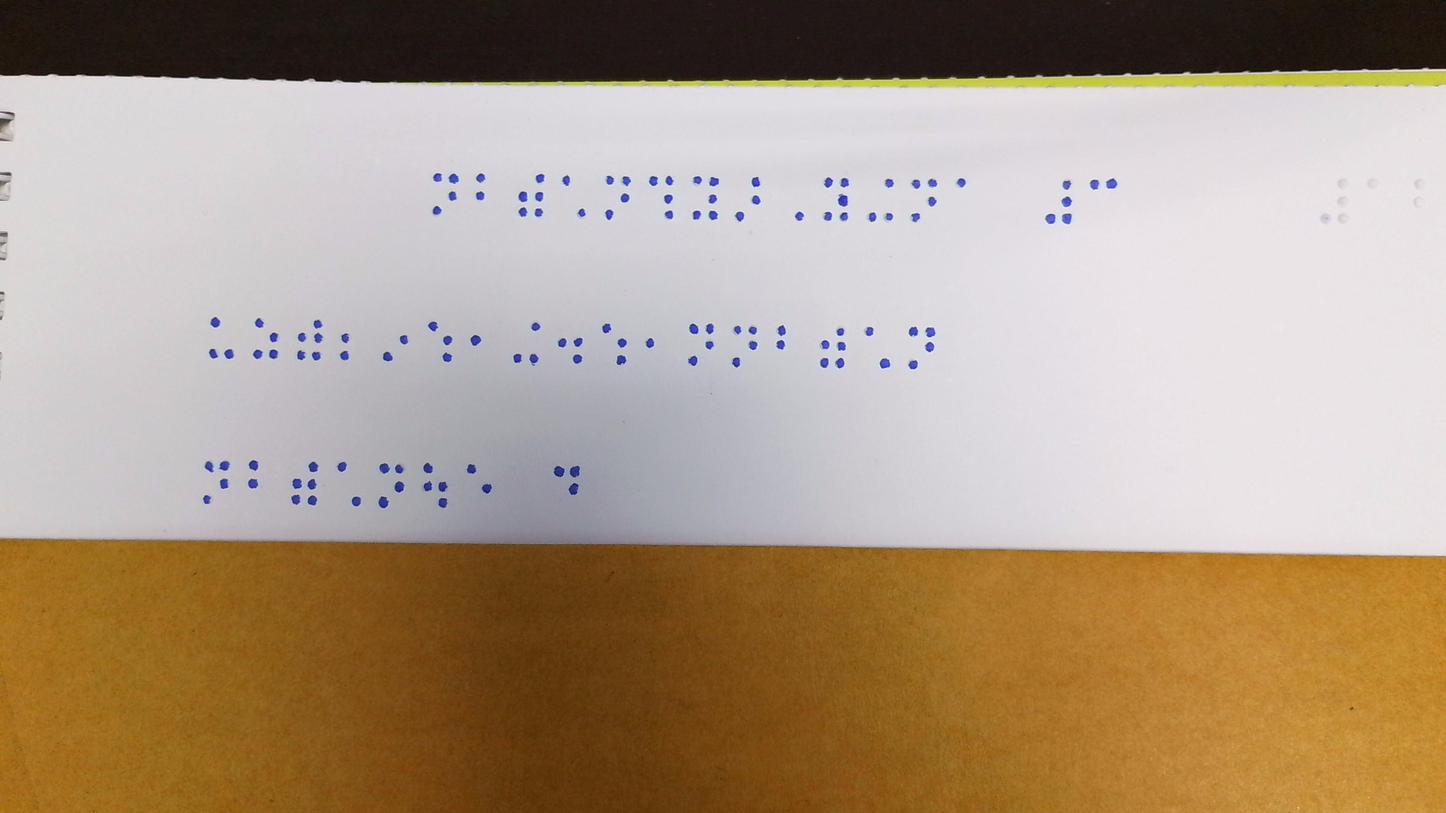braille_dot: (397, 334, 410, 346), (732, 325, 743, 337), (1106, 180, 1116, 189), (1045, 214, 1054, 224), (471, 336, 480, 346), (555, 467, 564, 477), (839, 195, 847, 206), (448, 174, 457, 183), (432, 206, 441, 215), (535, 174, 544, 183), (911, 180, 920, 189), (1090, 180, 1099, 189), (690, 324, 699, 333), (747, 341, 756, 350), (253, 350, 262, 359), (269, 350, 278, 359), (529, 355, 538, 364), (908, 360, 917, 369), (249, 461, 258, 470), (308, 463, 317, 472), (220, 480, 229, 489), (249, 479, 258, 488), (308, 480, 317, 489), (308, 496, 317, 505), (210, 317, 218, 327), (706, 324, 714, 334), (448, 191, 456, 200), (476, 191, 484, 200), (620, 177, 629, 185), (649, 177, 658, 185), (664, 177, 673, 185), (709, 177, 717, 186), (620, 194, 629, 202), (664, 196, 673, 204), (735, 212, 743, 221), (839, 212, 847, 221), (911, 214, 920, 222), (1062, 198, 1070, 207), (1063, 215, 1071, 224), (428, 323, 437, 331), (603, 324, 612, 332), (865, 327, 873, 336), (909, 327, 917, 336), (270, 333, 278, 342), (618, 339, 626, 348), (646, 339, 654, 348), (776, 341, 784, 350), (296, 352, 305, 360), (383, 353, 392, 361), (442, 354, 451, 362), (573, 355, 581, 364), (836, 359, 845, 367), (881, 359, 889, 368), (221, 462, 229, 471), (395, 464, 403, 473), (395, 483, 403, 492), (439, 483, 447, 492), (379, 498, 387, 507), (438, 499, 447, 507), (519, 192, 526, 202), (535, 192, 542, 202), (690, 356, 697, 366), (571, 467, 578, 477), (578, 209, 586, 217), (839, 179, 847, 187), (886, 180, 894, 188), (927, 180, 935, 188), (927, 198, 935, 206), (837, 342, 845, 350), (312, 352, 320, 360), (340, 352, 348, 360), (820, 359, 828, 367), (424, 483, 432, 491), (434, 173, 441, 182), (563, 176, 570, 185), (519, 208, 526, 217), (535, 208, 542, 217), (795, 212, 802, 221), (824, 212, 831, 221), (314, 320, 321, 329), (778, 326, 785, 335), (314, 334, 321, 343), (341, 334, 348, 343), (444, 336, 451, 345), (706, 341, 713, 350), (821, 341, 828, 350), (926, 343, 933, 352), (226, 350, 233, 359), (513, 355, 520, 364), (618, 355, 625, 364), (732, 358, 739, 367), (205, 462, 212, 471), (339, 463, 346, 472), (380, 464, 387, 473), (425, 464, 432, 473), (294, 479, 301, 488), (483, 484, 490, 493), (570, 484, 577, 493), (353, 497, 360, 506), (606, 177, 613, 185), (694, 177, 701, 185), (752, 178, 759, 186), (709, 196, 716, 204), (752, 196, 759, 204), (665, 212, 673, 219), (692, 212, 700, 219), (709, 212, 717, 219), (824, 179, 831, 187), (957, 179, 964, 187), (868, 214, 875, 222), (1063, 181, 1070, 189), (256, 319, 263, 327), (749, 327, 756, 335), (926, 329, 934, 336), (298, 334, 305, 342), (558, 339, 565, 347), (574, 339, 581, 347), (210, 350, 217, 358), (467, 465, 474, 473), (203, 496, 210, 504), (292, 496, 299, 504), (606, 212, 613, 219), (885, 214, 892, 221), (532, 324, 539, 331), (476, 176, 484, 182), (837, 329, 843, 336), (489, 192, 492, 198)
